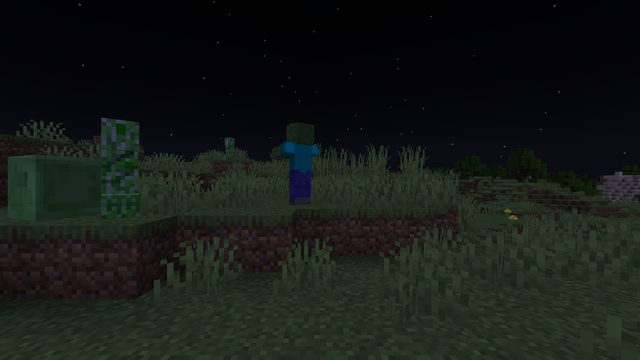creepers: (87, 113, 148, 217), (223, 136, 234, 154)
slimes: (12, 152, 78, 219)
zombies: (286, 124, 311, 204)
